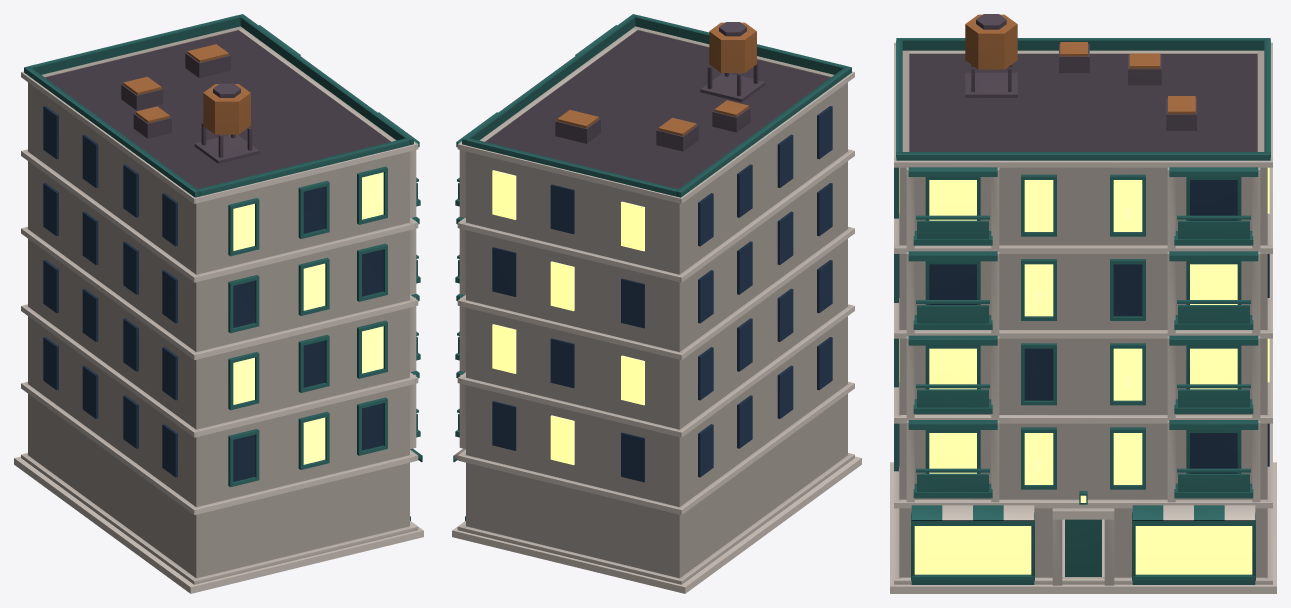
The model's file is bld.apartment-block-b.lod2.glb.
The picture shows the model from 3 angles, left to right: view 1: azimuth 30°, elevation 25°; view 2: azimuth 150°, elevation 25°; view 3: azimuth 270°, elevation 25°; orthographic projection. The views are drawn at different scales.
Visible parts, largest first — view 1: body, roof, body_emi_windowGlow; view 2: body, roof, body_emi_windowGlow; view 3: body, roof, body_emi_windowGlow, door_front.
Boxes of the visible parts, left/top/right/bottom form: body: left=14, top=14, right=423, bottom=593; roof: left=45, top=30, right=390, bottom=188; body_emi_windowGlow: left=233, top=172, right=383, bottom=464; body: left=452, top=14, right=861, bottom=593; roof: left=485, top=22, right=830, bottom=188; body_emi_windowGlow: left=492, top=170, right=644, bottom=465; body: left=890, top=38, right=1276, bottom=593; roof: left=909, top=14, right=1257, bottom=151; body_emi_windowGlow: left=899, top=167, right=1269, bottom=574; door_front: left=1065, top=519, right=1101, bottom=576.
Bounding box in the file's own units: 9.97 × 17.76 × 12.6.
